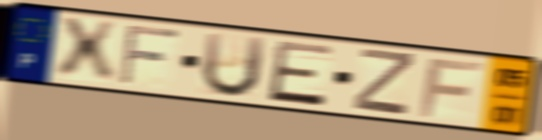E: (265, 38, 337, 109)
F: (416, 56, 487, 120), (116, 22, 184, 88)
U: (198, 30, 268, 100)
X: (56, 15, 120, 85)
Z: (350, 46, 419, 119)
